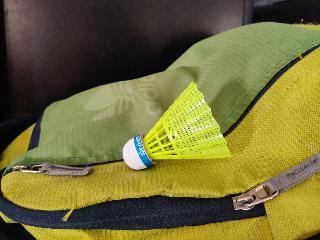shuttlecock: (120, 80, 232, 168)
